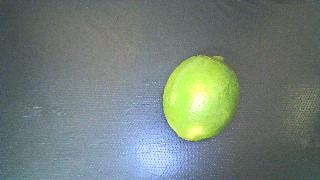EXPORTACION: (163, 55, 240, 141)
